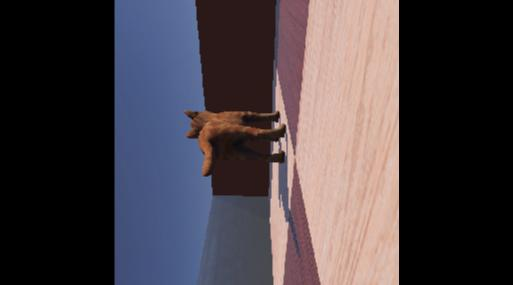Cat: (176, 80, 293, 199)
